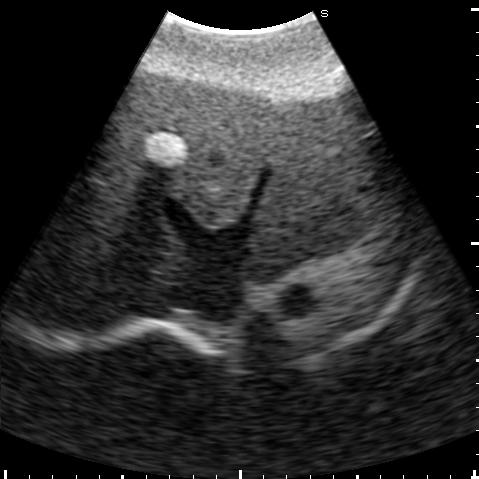S2: (244, 97, 387, 277)
S4: (105, 72, 274, 227)
S7: (32, 235, 144, 331)
S8: (67, 162, 185, 276)
Tumor: (145, 132, 186, 167)
